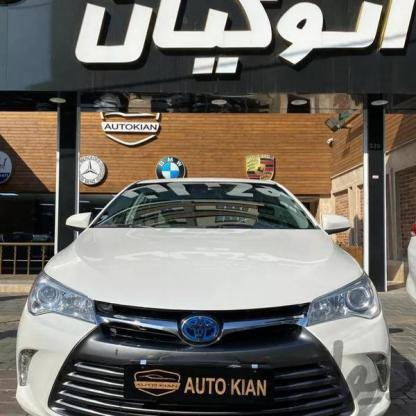Car: (11, 174, 402, 416)
